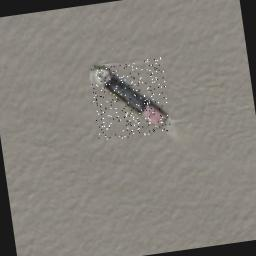boat: (88, 56, 172, 142)
